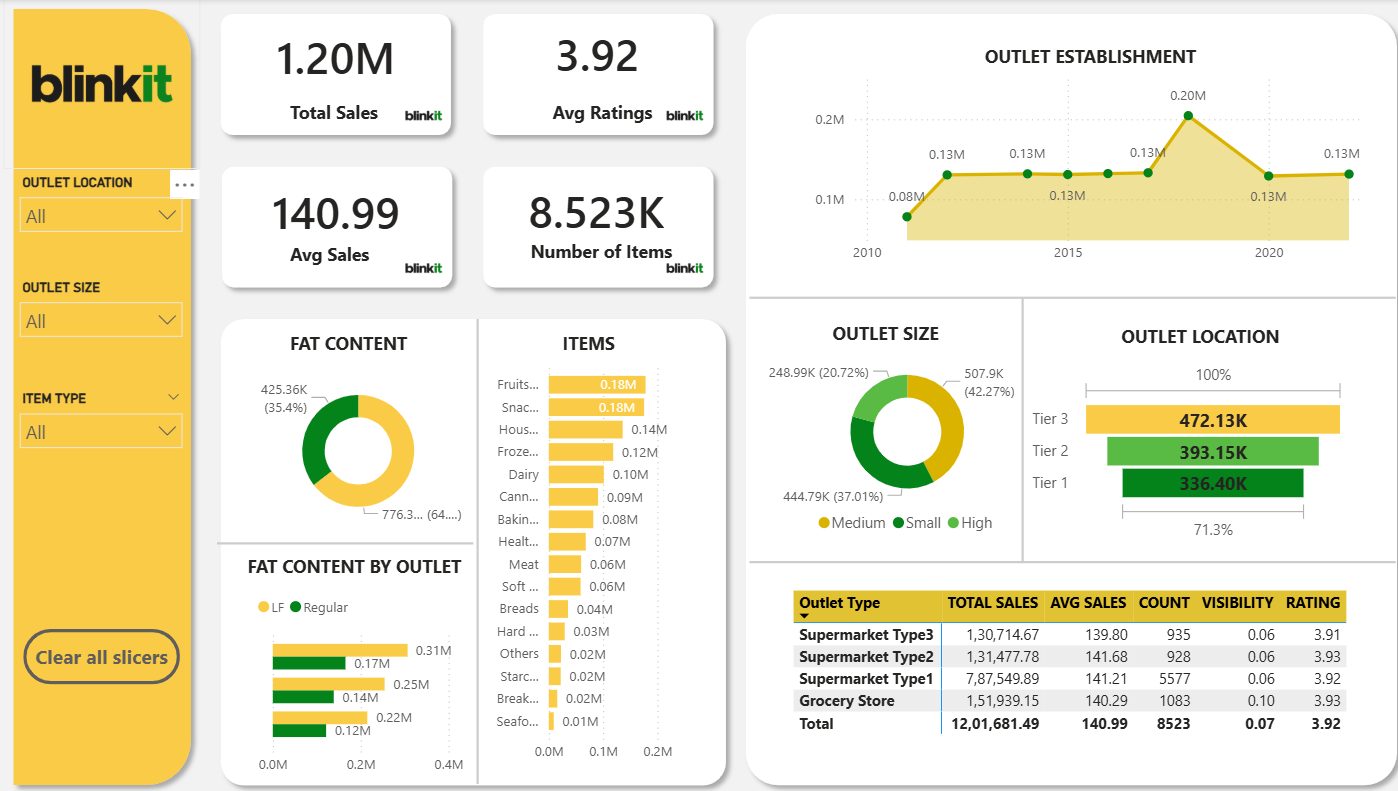

This screenshot's page, from the dashboard's own definition file:
{"tool":"powerbi","page":{"name":"Page 1","canvas":[1280,720],"ordinal":0},"visuals":[{"type":"shape","box":[10,0,178.8,720],"z":0},{"type":"image","box":[10,0,178.8,153.8],"z":1000},{"type":"shape","box":[197.5,5,226.2,127.5],"z":2000},{"type":"shape","box":[197.5,280,475,440],"z":3000},{"type":"shape","box":[198.8,142.5,226.2,127.5],"z":4000},{"type":"shape","box":[435,5,226.2,127.5],"z":5000},{"type":"shape","box":[435,142.5,226.2,127.5],"z":6000},{"type":"shape","box":[672.7,4.5,607.2,715.7],"z":7000},{"type":"cardVisual","fields":{"Data":["Sum(BlinkIT Grocery Data.Sales)"]},"box":[225.6,17.4,170.9,68.6],"z":8000},{"type":"cardVisual","fields":{"Data":["Avg(BlinkIT Grocery Data.Rating)"]},"box":[476.7,10.5,141.9,75.6],"z":9000},{"type":"cardVisual","fields":{"Data":["Avg(BlinkIT Grocery Data.Sales)"]},"box":[218.6,153.5,186,74.4],"z":10000},{"type":"cardVisual","fields":{"Data":["CountNonNull(BlinkIT Grocery Data.Sales)"]},"box":[451.2,153.5,191.9,72.1],"z":11000},{"type":"textbox","box":[265.1,86,93,32.6],"z":12000},{"type":"textbox","box":[502.3,86,116.3,32.6],"z":13000},{"type":"textbox","box":[265.1,215.1,93,32.6],"z":14000},{"type":"textbox","box":[473.3,211.6,154.7,32.6],"z":15000},{"type":"image","box":[355.8,86,68.6,39.5],"z":16000},{"type":"image","box":[355.8,224.4,68.6,39.5],"z":17000},{"type":"image","box":[593,224.4,68.6,39.5],"z":18000},{"type":"image","box":[593,86,68.6,39.5],"z":19000},{"type":"barChart","fields":{"Category":["BlinkIT Grocery Data.Item Type"],"Y":["Sum(BlinkIT Grocery Data.Sales)"]},"box":[440,320,203.8,378.8],"z":20000},{"type":"textbox","box":[511.2,295,76.2,41.2],"z":21000},{"type":"donutChart","fields":{"Category":["BlinkIT Grocery Data.Item Fat Content"],"Y":["Sum(BlinkIT Grocery Data.Sales)"]},"box":[222.5,336.2,217.5,146.2],"z":22000},{"type":"textbox","box":[265,295,125,33.8],"z":23000},{"type":"clusteredBarChart","fields":{"Category":["BlinkIT Grocery Data.Outlet Location Type"],"Y":["Sum(BlinkIT Grocery Data.Sales)"],"Series":["BlinkIT Grocery Data.Item Fat Content"]},"box":[235,530,200,180],"z":24000},{"type":"textbox","box":[226.2,496.2,217.5,33.8],"z":25000},{"type":"areaChart","fields":{"Category":["BlinkIT Grocery Data.Outlet Establishment Year"],"Y":["Sum(BlinkIT Grocery Data.Sales)"]},"box":[740,58.8,506.2,188.8],"z":26000},{"type":"textbox","box":[890,35,207.5,33.8],"z":27000},{"type":"donutChart","fields":{"Y":["Sum(BlinkIT Grocery Data.Sales)"],"Category":["BlinkIT Grocery Data.Outlet Size"]},"box":[687.5,320,281.2,172.5],"z":28000},{"type":"textbox","box":[755,286,125,33.8],"z":29000},{"type":"funnel","fields":{"Category":["BlinkIT Grocery Data.Outlet Location Type"],"Y":["Sum(BlinkIT Grocery Data.Sales)"]},"box":[936.7,323.3,293.3,171.7],"z":30000},{"type":"textbox","box":[1016.7,288.3,171.7,35],"z":31000},{"type":"pivotTable","fields":{"Values":["Sum(BlinkIT Grocery Data.Sales)","Avg(BlinkIT Grocery Data.Sales)","CountNonNull(BlinkIT Grocery Data.Item Identifier)","Avg(BlinkIT Grocery Data.Item Visibility)","Avg(BlinkIT Grocery Data.Rating)"],"Rows":["BlinkIT Grocery Data.Outlet Type"]},"box":[719.8,530.2,526.7,154.7],"z":32000},{"type":"slicer","fields":{"Values":["BlinkIT Grocery Data.Outlet Location Type"]},"box":[15.1,153.5,167.4,74.4],"z":33000},{"type":"slicer","fields":{"Values":["BlinkIT Grocery Data.Outlet Size"]},"box":[15.1,248.8,167.4,74.4],"z":34000},{"type":"slicer","fields":{"Values":["BlinkIT Grocery Data.Item Type"]},"box":[15.1,348.8,167.4,74.4],"z":35000},{"type":"actionButton","box":[27.9,569.8,141.9,50],"z":36000},{"type":"shape","box":[685.2,119.8,584.6,300.8],"z":37000},{"type":"shape","box":[685.2,394.6,584.6,229.5],"z":37001},{"type":"shape","box":[640,270.2,584.6,239.7],"z":37002},{"type":"shape","box":[147,289.4,584.6,420.6],"z":37003},{"type":"shape","box":[203.5,377.6,231.8,229.5],"z":37004}]}

Visuals, with their boxes in screenshot pixels (x1, y1, x2, y2), scaled from the page's 1280x720 canvas onto the 1398x791 screenshot:
shape: [x1=11, y1=0, x2=206, y2=790]
image: [x1=11, y1=0, x2=206, y2=169]
shape: [x1=216, y1=5, x2=463, y2=146]
shape: [x1=216, y1=308, x2=734, y2=790]
shape: [x1=217, y1=157, x2=464, y2=297]
shape: [x1=475, y1=5, x2=722, y2=146]
shape: [x1=475, y1=157, x2=722, y2=297]
shape: [x1=735, y1=5, x2=1397, y2=790]
cardVisual - Sum(BlinkIT Grocery Data.Sales): [x1=246, y1=19, x2=433, y2=94]
cardVisual - Avg(BlinkIT Grocery Data.Rating): [x1=521, y1=12, x2=676, y2=95]
cardVisual - Avg(BlinkIT Grocery Data.Sales): [x1=239, y1=169, x2=442, y2=250]
cardVisual - CountNonNull(BlinkIT Grocery Data.Sales): [x1=493, y1=169, x2=702, y2=248]
textbox: [x1=290, y1=94, x2=391, y2=130]
textbox: [x1=549, y1=94, x2=676, y2=130]
textbox: [x1=290, y1=236, x2=391, y2=272]
textbox: [x1=517, y1=232, x2=686, y2=268]
image: [x1=389, y1=94, x2=464, y2=138]
image: [x1=389, y1=247, x2=464, y2=290]
image: [x1=648, y1=247, x2=723, y2=290]
image: [x1=648, y1=94, x2=723, y2=138]
barChart - BlinkIT Grocery Data.Item Type x Sum(BlinkIT Grocery Data.Sales): [x1=481, y1=352, x2=703, y2=768]
textbox: [x1=558, y1=324, x2=642, y2=369]
donutChart - BlinkIT Grocery Data.Item Fat Content x Sum(BlinkIT Grocery Data.Sales): [x1=243, y1=369, x2=481, y2=530]
textbox: [x1=289, y1=324, x2=426, y2=361]
clusteredBarChart - BlinkIT Grocery Data.Outlet Location Type x Sum(BlinkIT Grocery Data.Sales): [x1=257, y1=582, x2=475, y2=780]
textbox: [x1=247, y1=545, x2=485, y2=582]
areaChart - BlinkIT Grocery Data.Outlet Establishment Year x Sum(BlinkIT Grocery Data.Sales): [x1=808, y1=65, x2=1361, y2=272]
textbox: [x1=972, y1=38, x2=1199, y2=76]
donutChart - Sum(BlinkIT Grocery Data.Sales) x BlinkIT Grocery Data.Outlet Size: [x1=751, y1=352, x2=1058, y2=541]
textbox: [x1=825, y1=314, x2=961, y2=351]
funnel - BlinkIT Grocery Data.Outlet Location Type x Sum(BlinkIT Grocery Data.Sales): [x1=1023, y1=355, x2=1343, y2=544]
textbox: [x1=1110, y1=317, x2=1298, y2=355]
pivotTable - Sum(BlinkIT Grocery Data.Sales) x Avg(BlinkIT Grocery Data.Sales): [x1=786, y1=582, x2=1361, y2=752]
slicer - BlinkIT Grocery Data.Outlet Location Type: [x1=16, y1=169, x2=199, y2=250]
slicer - BlinkIT Grocery Data.Outlet Size: [x1=16, y1=273, x2=199, y2=355]
slicer - BlinkIT Grocery Data.Item Type: [x1=16, y1=383, x2=199, y2=465]
actionButton: [x1=30, y1=626, x2=185, y2=681]
shape: [x1=748, y1=132, x2=1387, y2=462]
shape: [x1=748, y1=434, x2=1387, y2=686]
shape: [x1=699, y1=297, x2=1337, y2=560]
shape: [x1=161, y1=318, x2=799, y2=780]
shape: [x1=222, y1=415, x2=475, y2=667]
